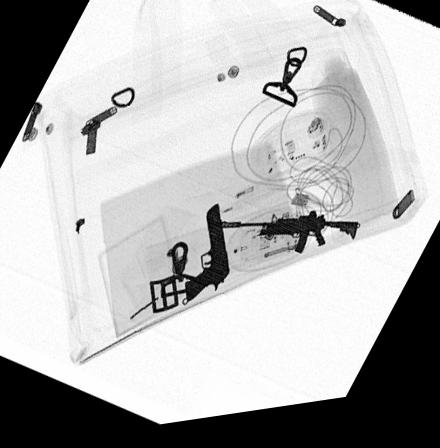Gun: (218, 217, 358, 262), (183, 208, 229, 307)
